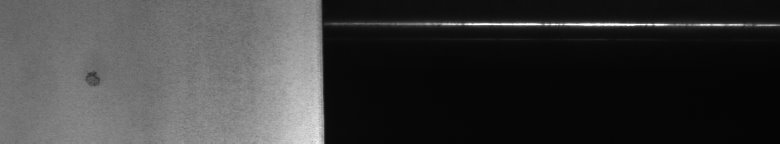fi: (81, 64, 103, 94)
